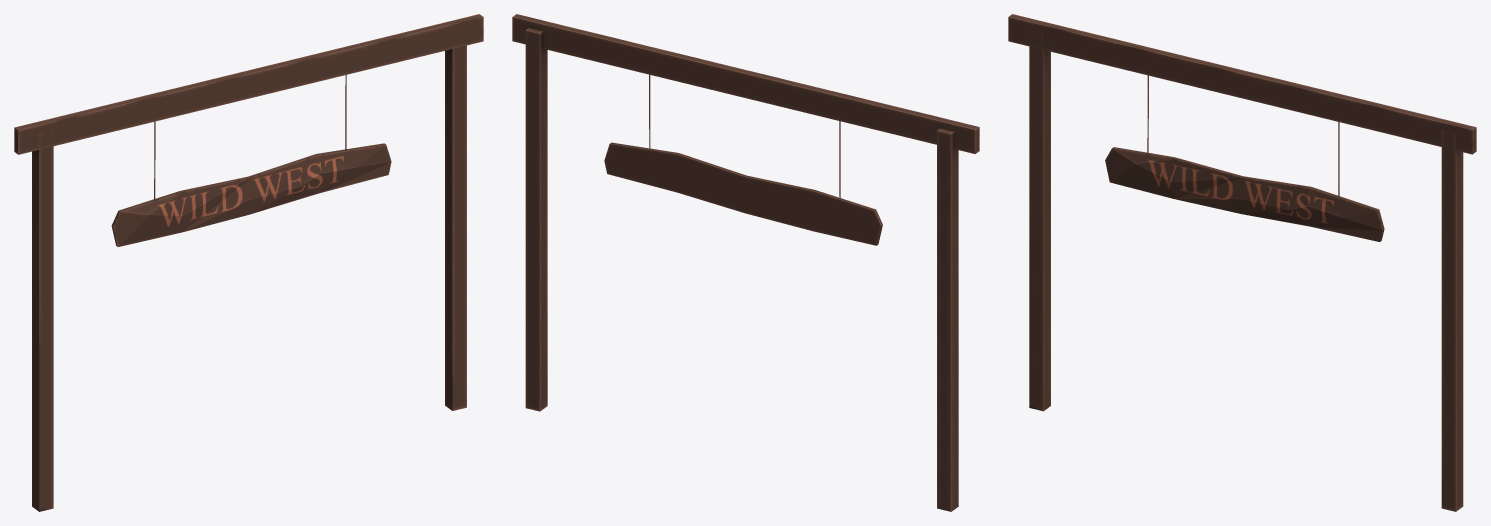
The model's file is Sign_1_(Animated).fbx.
3 renders of one model, left to right at view 1: azimuth 30°, elevation 25°; view 2: azimuth 150°, elevation 25°; view 3: azimuth 330°, elevation 25°, orthographic.
Visible parts, largest first — view 1: Box053, Sign_1_(Animated); view 2: Box053, Sign_1_(Animated); view 3: Box053, Sign_1_(Animated).
Boxes of the visible parts, x1=… form: Box053: x1=14, y1=14, x2=483, y2=511; Sign_1_(Animated): x1=111, y1=75, x2=391, y2=246; Box053: x1=512, y1=14, x2=979, y2=511; Sign_1_(Animated): x1=604, y1=74, x2=882, y2=245; Box053: x1=1008, y1=14, x2=1476, y2=511; Sign_1_(Animated): x1=1105, y1=75, x2=1384, y2=241.
Size of the model in its own units: 206 by 6.65 by 164.
1 material, 1 textured.
